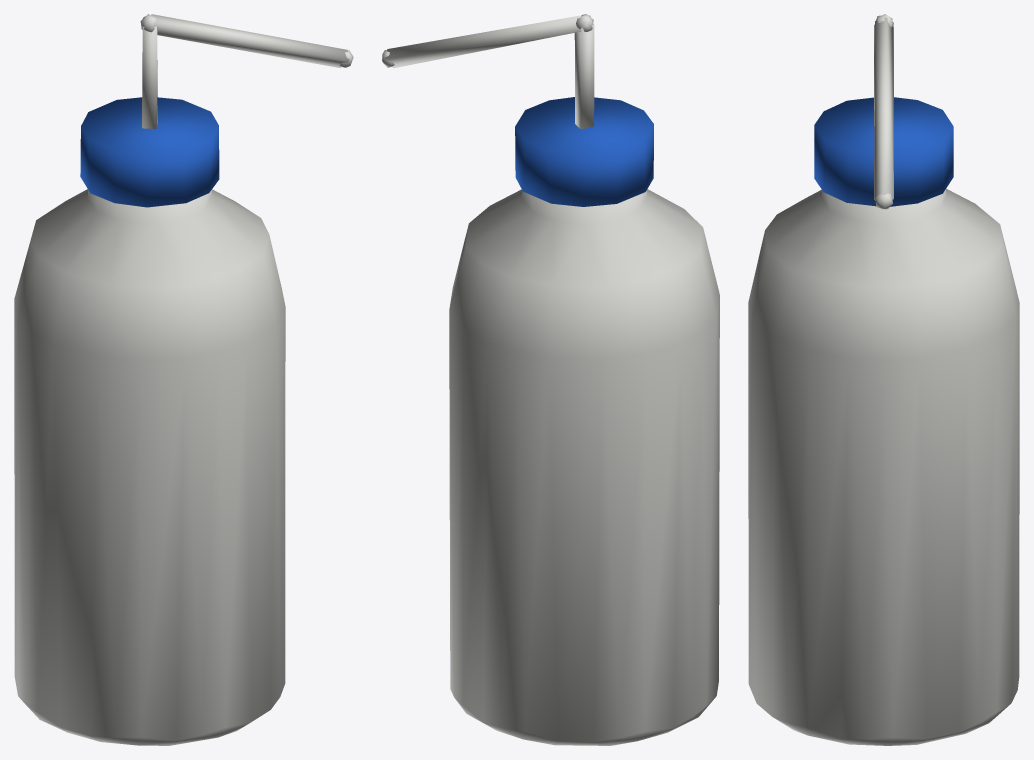
File: SM_WashBottle_500.glb
3 renders of one model, left to right at view 1: azimuth 30°, elevation 25°; view 2: azimuth 150°, elevation 25°; view 3: azimuth 270°, elevation 25°, orthographic.
Parts seen in each view (by area): view 1: SM_WashBottle_500; view 2: SM_WashBottle_500; view 3: SM_WashBottle_500.
Boxes of the visible parts, x1,y1,x2,y2 form: SM_WashBottle_500: [14, 14, 353, 745]; SM_WashBottle_500: [382, 14, 719, 745]; SM_WashBottle_500: [748, 14, 1019, 745].
Size of the model in its own units: 0.1021 by 0.2076 by 0.075.
